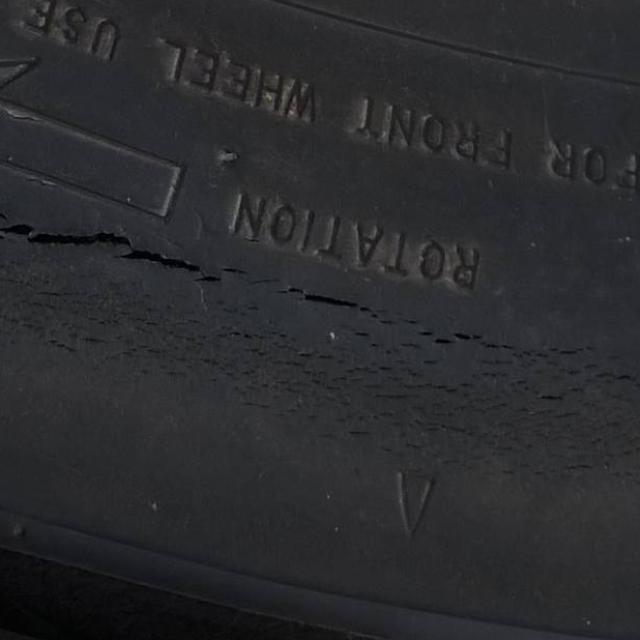Cracks: (0, 151, 639, 528)
